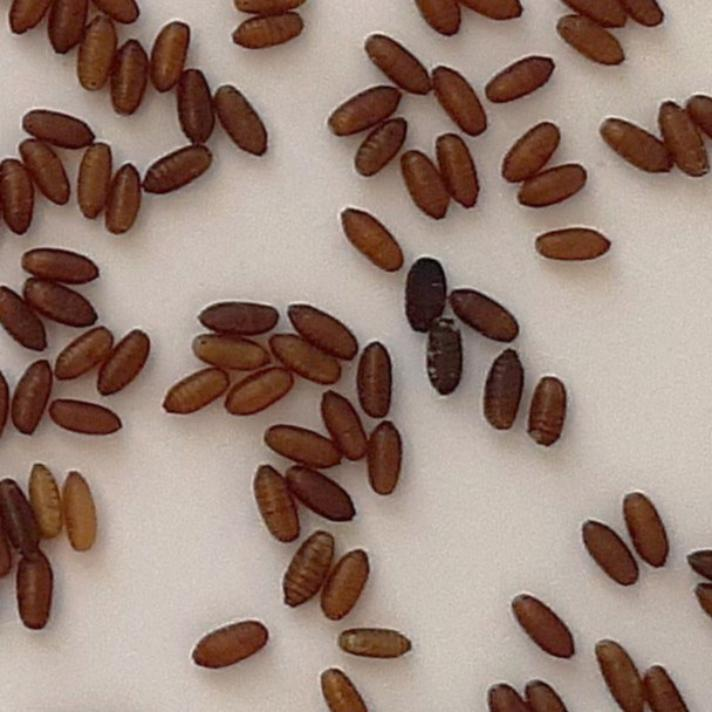pupae: (592, 115, 678, 182), (427, 58, 495, 140), (650, 98, 710, 189), (214, 76, 276, 164), (579, 514, 645, 596), (277, 526, 341, 610), (476, 344, 530, 440), (336, 204, 406, 278), (282, 296, 360, 362), (184, 616, 272, 674), (282, 461, 360, 526), (514, 155, 593, 219), (448, 281, 526, 345), (138, 140, 218, 202), (550, 12, 630, 74), (618, 490, 675, 574), (396, 134, 448, 226), (320, 543, 378, 625), (366, 29, 432, 101), (502, 114, 566, 188), (249, 461, 304, 547), (266, 328, 344, 388), (314, 387, 372, 467), (222, 359, 302, 417), (326, 80, 406, 138), (18, 276, 102, 331), (509, 594, 576, 662), (158, 360, 236, 418), (16, 136, 76, 210), (71, 132, 116, 229), (49, 322, 118, 385), (592, 632, 646, 712), (184, 330, 274, 378), (264, 421, 348, 472), (18, 240, 100, 292), (432, 133, 484, 214), (94, 327, 154, 397), (60, 468, 104, 562), (404, 248, 448, 342), (537, 221, 621, 269), (484, 50, 556, 106), (524, 370, 572, 452), (350, 117, 413, 179), (16, 102, 97, 150), (9, 357, 55, 441), (49, 394, 127, 443), (362, 418, 406, 504), (355, 334, 399, 420), (14, 546, 56, 636), (190, 293, 288, 331), (3, 280, 52, 356), (424, 314, 466, 400), (110, 34, 152, 120), (76, 16, 122, 94), (102, 156, 146, 237), (150, 18, 194, 98), (175, 62, 215, 148), (24, 460, 64, 544), (225, 11, 309, 51), (2, 473, 40, 557), (335, 624, 413, 662), (641, 660, 697, 712), (0, 156, 36, 236), (42, 0, 92, 56), (314, 664, 370, 712), (405, 0, 469, 32), (558, 0, 636, 26), (522, 674, 568, 712), (7, 0, 49, 40), (462, 0, 530, 23), (482, 678, 522, 712), (636, 0, 674, 32)
